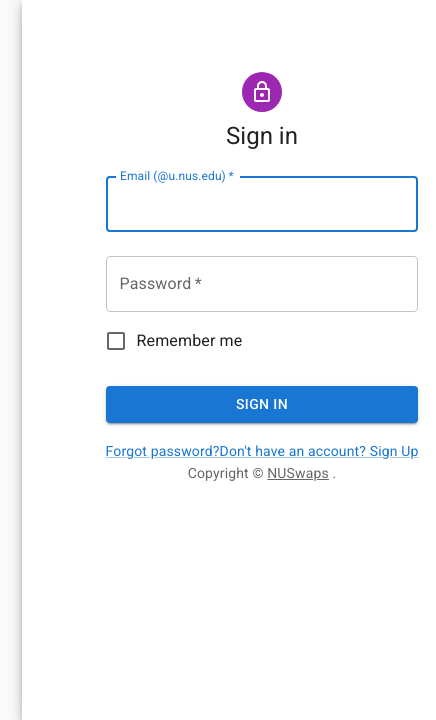
Scenario: Login Page › renders error text when fields are empty
Click the button "Sign In".
click(262, 404)  # box left=106, top=386, right=418, bottom=422
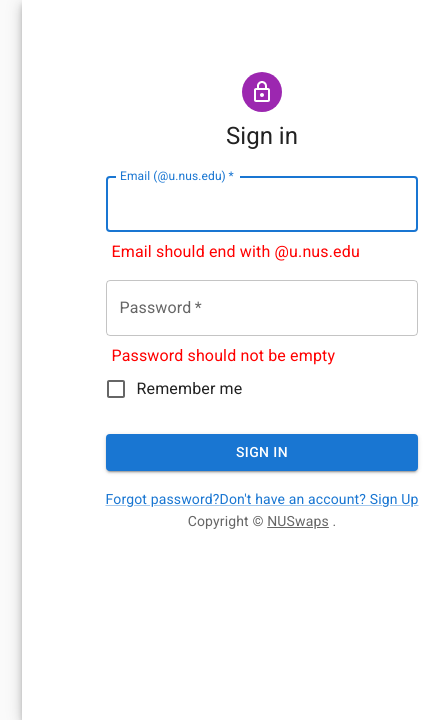
Expected: the text "Password should not be empty" is shown, left=112, top=346, right=335, bottom=365
